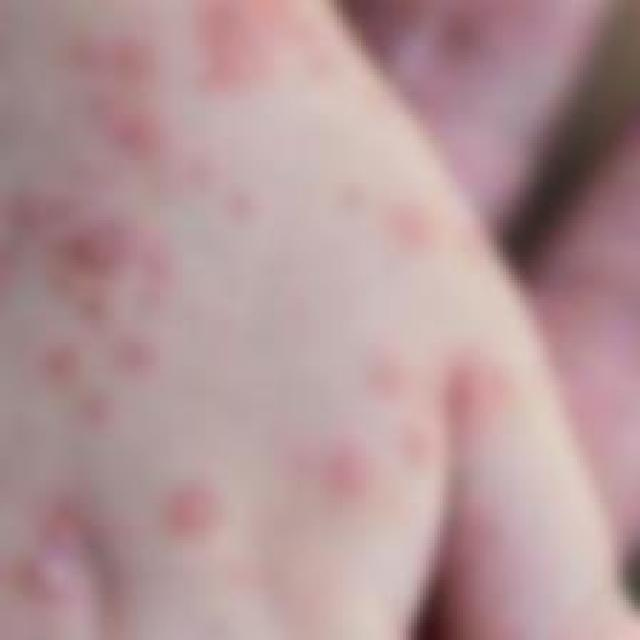monkeypox: (41, 47, 584, 640)
